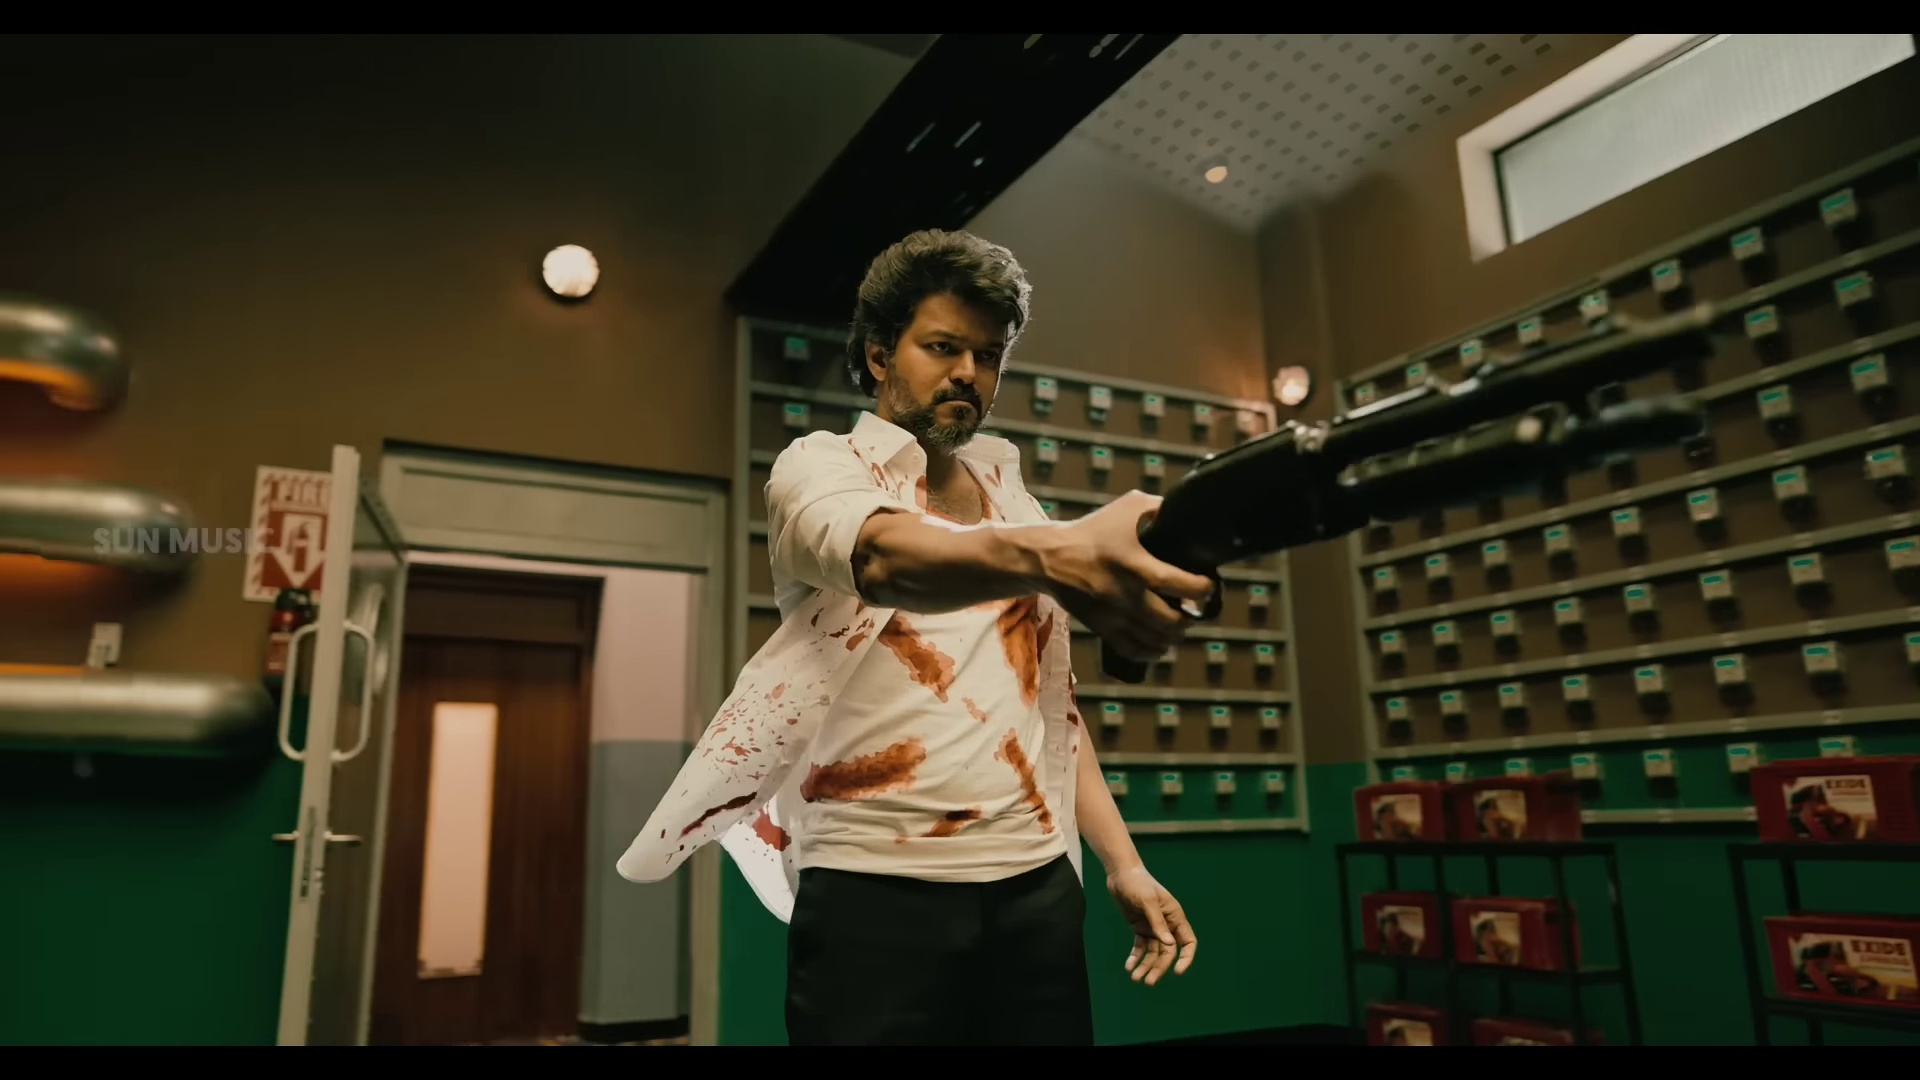gun: (1095, 293, 1725, 669)
p_w_gun: (616, 228, 1199, 1052)
